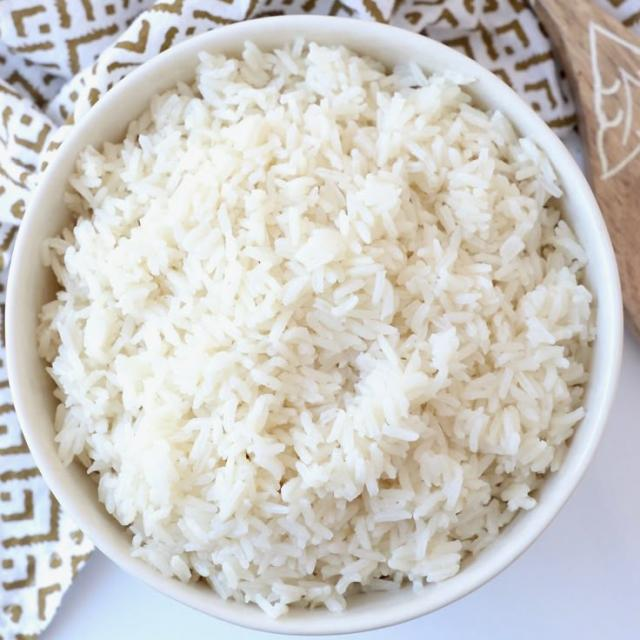rice: (40, 41, 593, 615)
